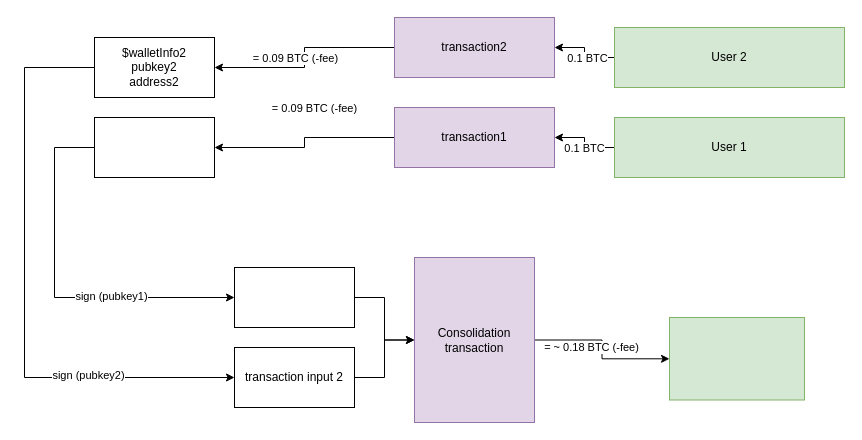
Some shapes in this 862 by 440 pixel diagram are drawn without their labels. The centre of each missing label's shape, as x and y in pixels:
"$walletInfo1 pubkey1 address1" goes at [154,147].
"Boss wallet address" goes at [736,358].
"transaction input 1" goes at [294,297].
